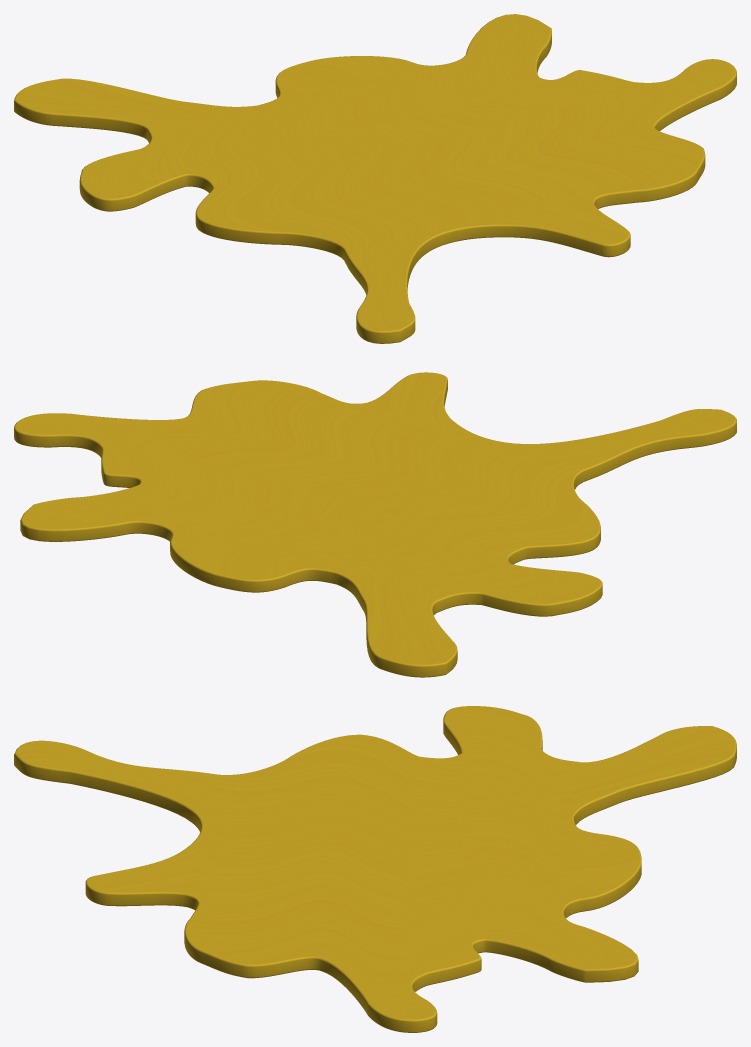
File: Sauce slather model.fbx
The picture shows the model from 3 angles, top to bottom: view 1: azimuth 30°, elevation 25°; view 2: azimuth 150°, elevation 25°; view 3: azimuth 270°, elevation 25°; orthographic projection. The views are drawn at different scales.
Visible parts, largest first — view 1: BézierCurve; view 2: BézierCurve; view 3: BézierCurve.
Part boxes in pixels (x1,y1,x2,y2): BézierCurve: [14, 14, 736, 343]; BézierCurve: [14, 372, 736, 677]; BézierCurve: [14, 706, 736, 1032].
Bounding box in the file's own units: 406 × 8 × 394.
Materials: 1 (1 with a texture image).
